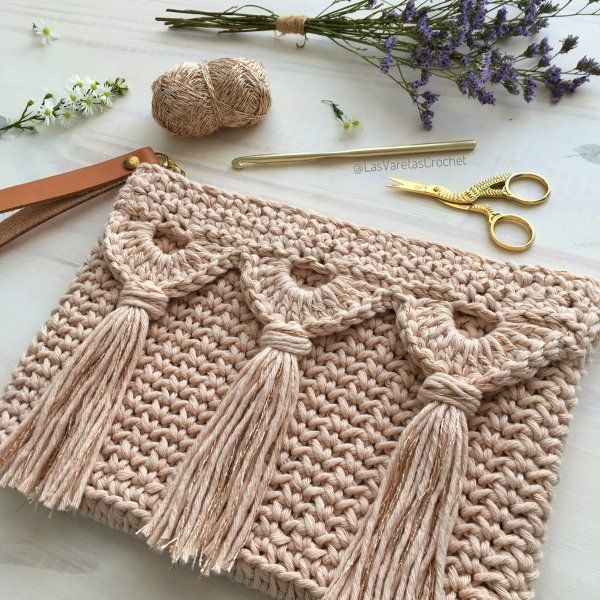cuero: (1, 146, 158, 249)
